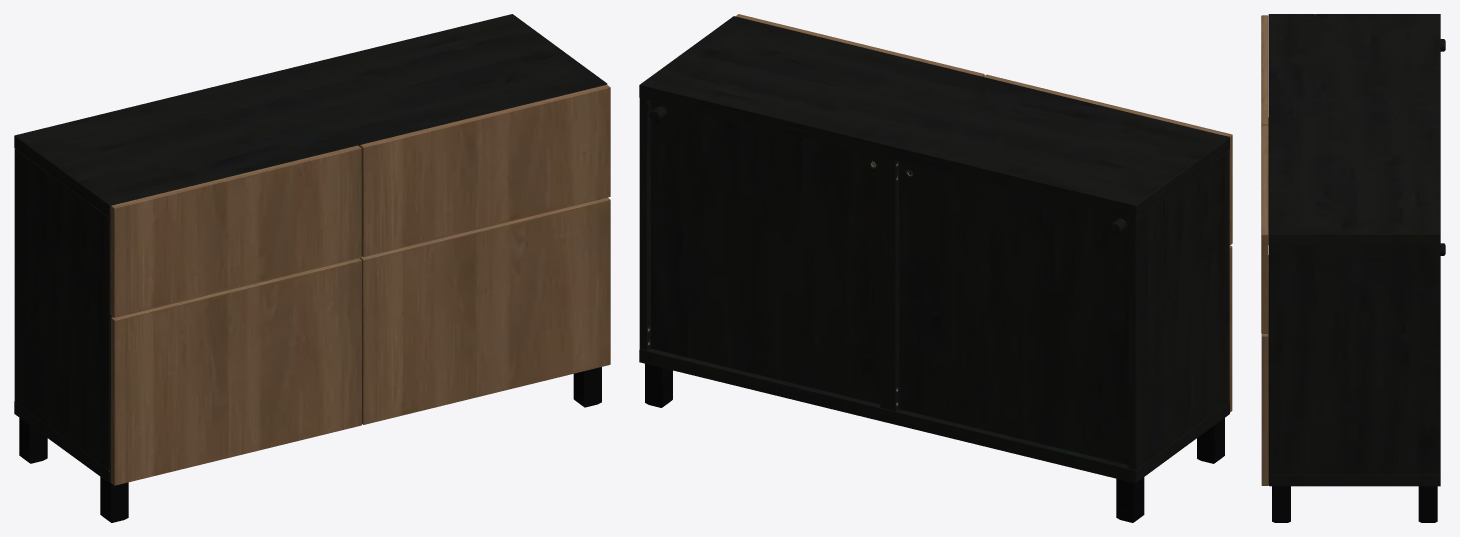
The picture shows the model from 3 angles, left to right: view 1: azimuth 30°, elevation 25°; view 2: azimuth 150°, elevation 25°; view 3: azimuth 270°, elevation 25°; orthographic projection. The views are drawn at different scales.
Parts seen in each view (by area): view 1: 39612202_storage_combination_w_doors_drawers; view 2: 39612202_storage_combination_w_doors_drawers; view 3: 39612202_storage_combination_w_doors_drawers.
Boxes of the visible parts, x1,y1,x2,y2 form: 39612202_storage_combination_w_doors_drawers: (14, 14, 610, 522); 39612202_storage_combination_w_doors_drawers: (639, 14, 1232, 522); 39612202_storage_combination_w_doors_drawers: (1261, 14, 1445, 522).
Size of the model in its own units: 1.2 by 0.7403 by 0.4233.
Materials: 1 (1 with a texture image).
